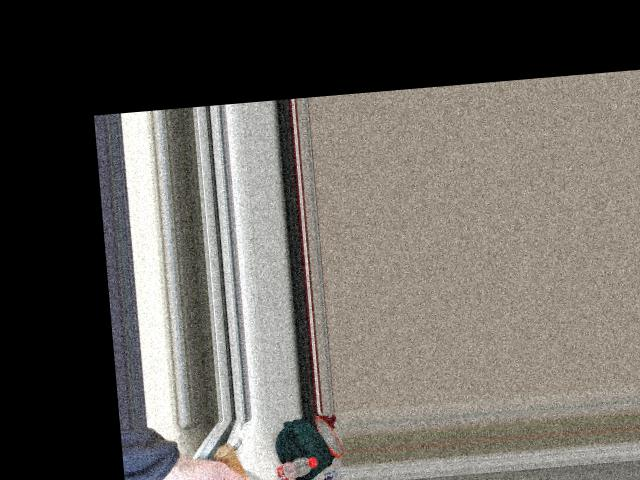sweet_potato: (215, 447, 267, 480)
